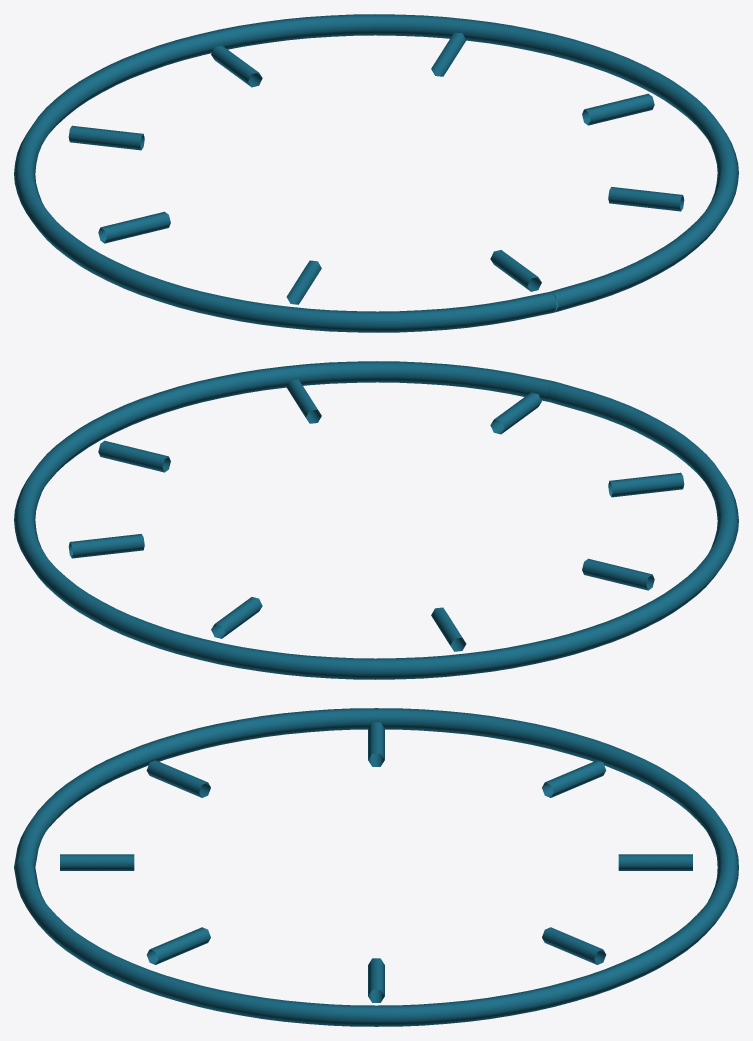
File: status-5-refined-v15.fbx
3 renders of one model, top to bottom at view 1: azimuth 30°, elevation 25°; view 2: azimuth 150°, elevation 25°; view 3: azimuth 270°, elevation 25°, orthographic.
Visible parts, largest first — view 1: AreaRune.011, RuneDash.045, RuneDash.041, RuneDash.042, RuneDash.046, RuneDash.044, RuneDash.040, RuneDash.047, RuneDash.043; view 2: AreaRune.011, RuneDash.047, RuneDash.043, RuneDash.042, RuneDash.046, RuneDash.040, RuneDash.044, RuneDash.045, RuneDash.041; view 3: AreaRune.011, RuneDash.040, RuneDash.044, RuneDash.041, RuneDash.047, RuneDash.043, RuneDash.045, RuneDash.042, RuneDash.046.
Boxes of the visible parts, box(x1,y1,x2,y2) form: AreaRune.011: box(14, 14, 738, 332); RuneDash.045: box(68, 125, 144, 150); RuneDash.041: box(608, 187, 684, 211); RuneDash.042: box(582, 93, 654, 125); RuneDash.046: box(98, 211, 170, 243); RuneDash.044: box(211, 45, 262, 87); RuneDash.040: box(490, 250, 541, 291); RuneDash.047: box(286, 260, 321, 304); RuneDash.043: box(431, 32, 466, 76); AreaRune.011: box(14, 361, 738, 679); RuneDash.047: box(608, 472, 684, 497); RuneDash.043: box(68, 534, 144, 558); RuneDash.042: box(98, 440, 170, 472); RuneDash.046: box(582, 558, 654, 590); RuneDash.040: box(490, 392, 541, 434); RuneDash.044: box(211, 597, 262, 638); RuneDash.045: box(431, 607, 466, 651); RuneDash.041: box(286, 379, 321, 423); AreaRune.011: box(14, 708, 738, 1026); RuneDash.040: box(60, 854, 134, 870); RuneDash.044: box(618, 854, 692, 870); RuneDash.041: box(146, 927, 210, 964); RuneDash.047: box(146, 760, 210, 797); RuneDash.043: box(542, 927, 606, 964); RuneDash.045: box(542, 760, 606, 797); RuneDash.042: box(368, 958, 384, 1002); RuneDash.046: box(368, 722, 384, 766).
Size of the model in its own units: 94.8 by 2.87 by 94.79.
